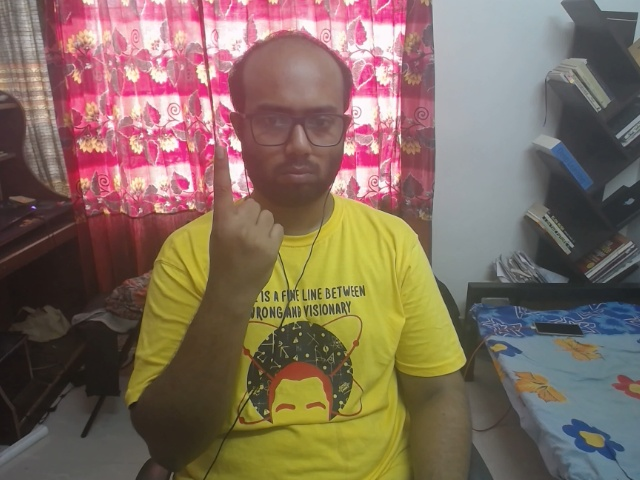one: (192, 141, 313, 324)
